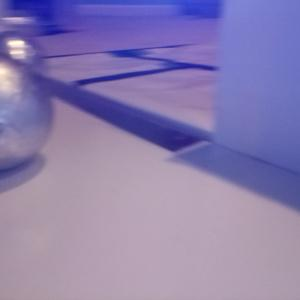alive_ball: (1, 53, 52, 170), (1, 32, 42, 88)
